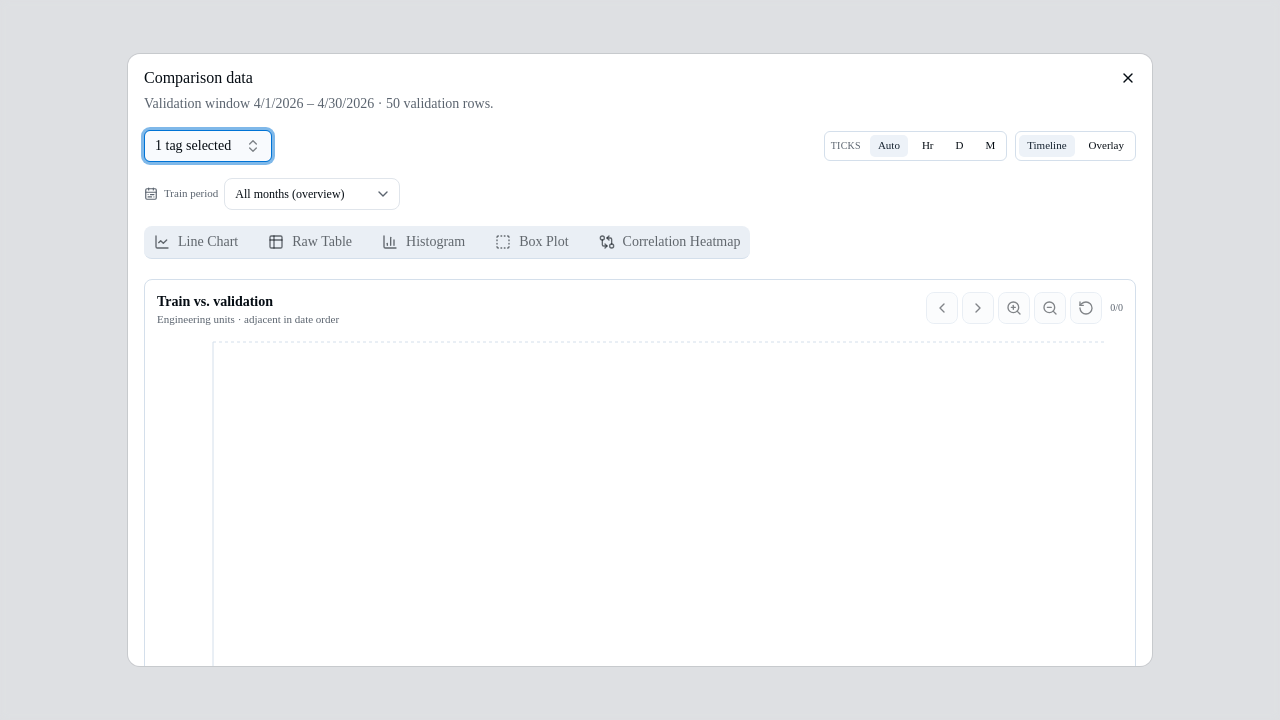
Test: DatasetCompareModal — By month (Histogram / Box Plot) › offers By side / By month only on the chart tabs that compare
Check: the button "By month" is not shown
Step 1. Click the tab "Histogram" → point(424, 242), box [375,230,472,254]
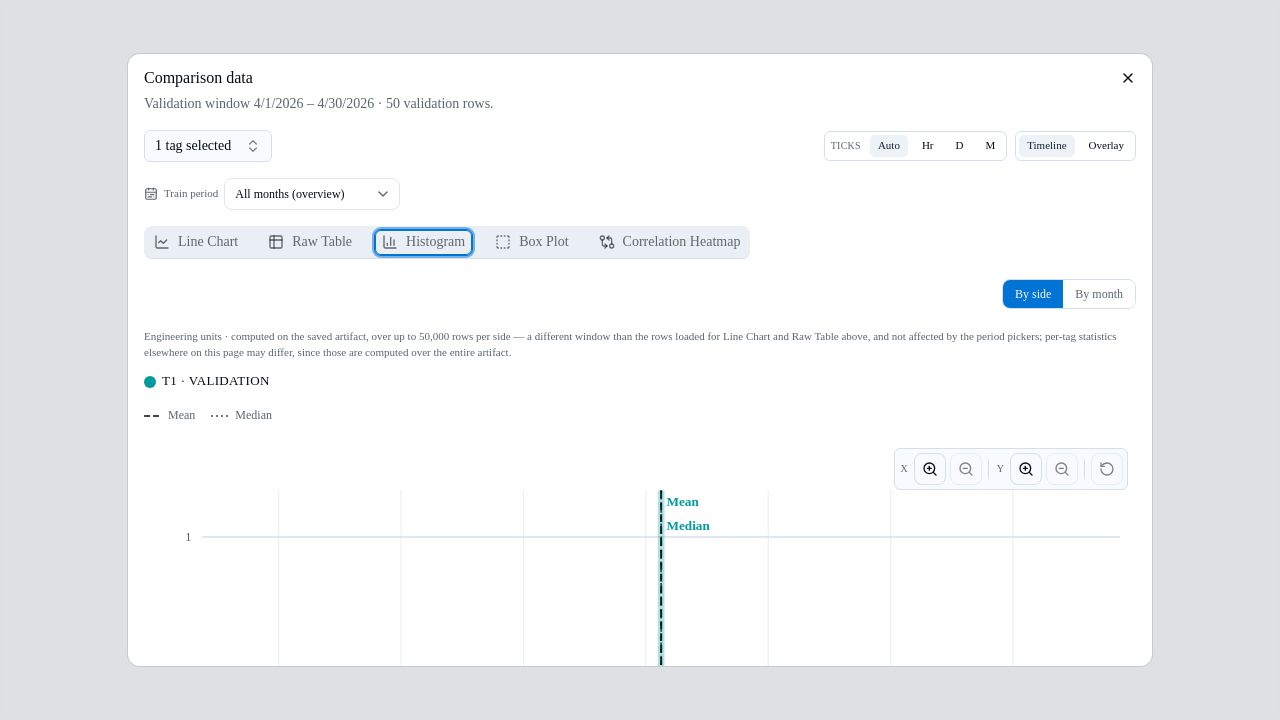
Check: the button "By side" is shown, box [1003,280,1063,308]
Check: the button "By month" is shown, box [1063,280,1135,308]
